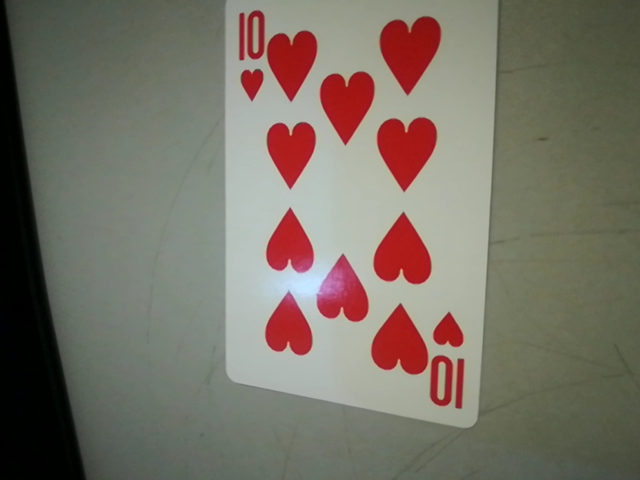hx 10: (426, 308, 478, 417)
